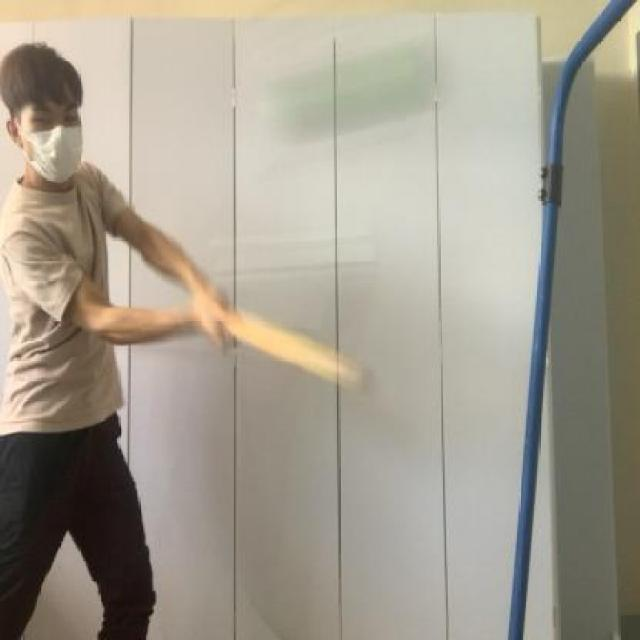baseball: (249, 30, 456, 161)
